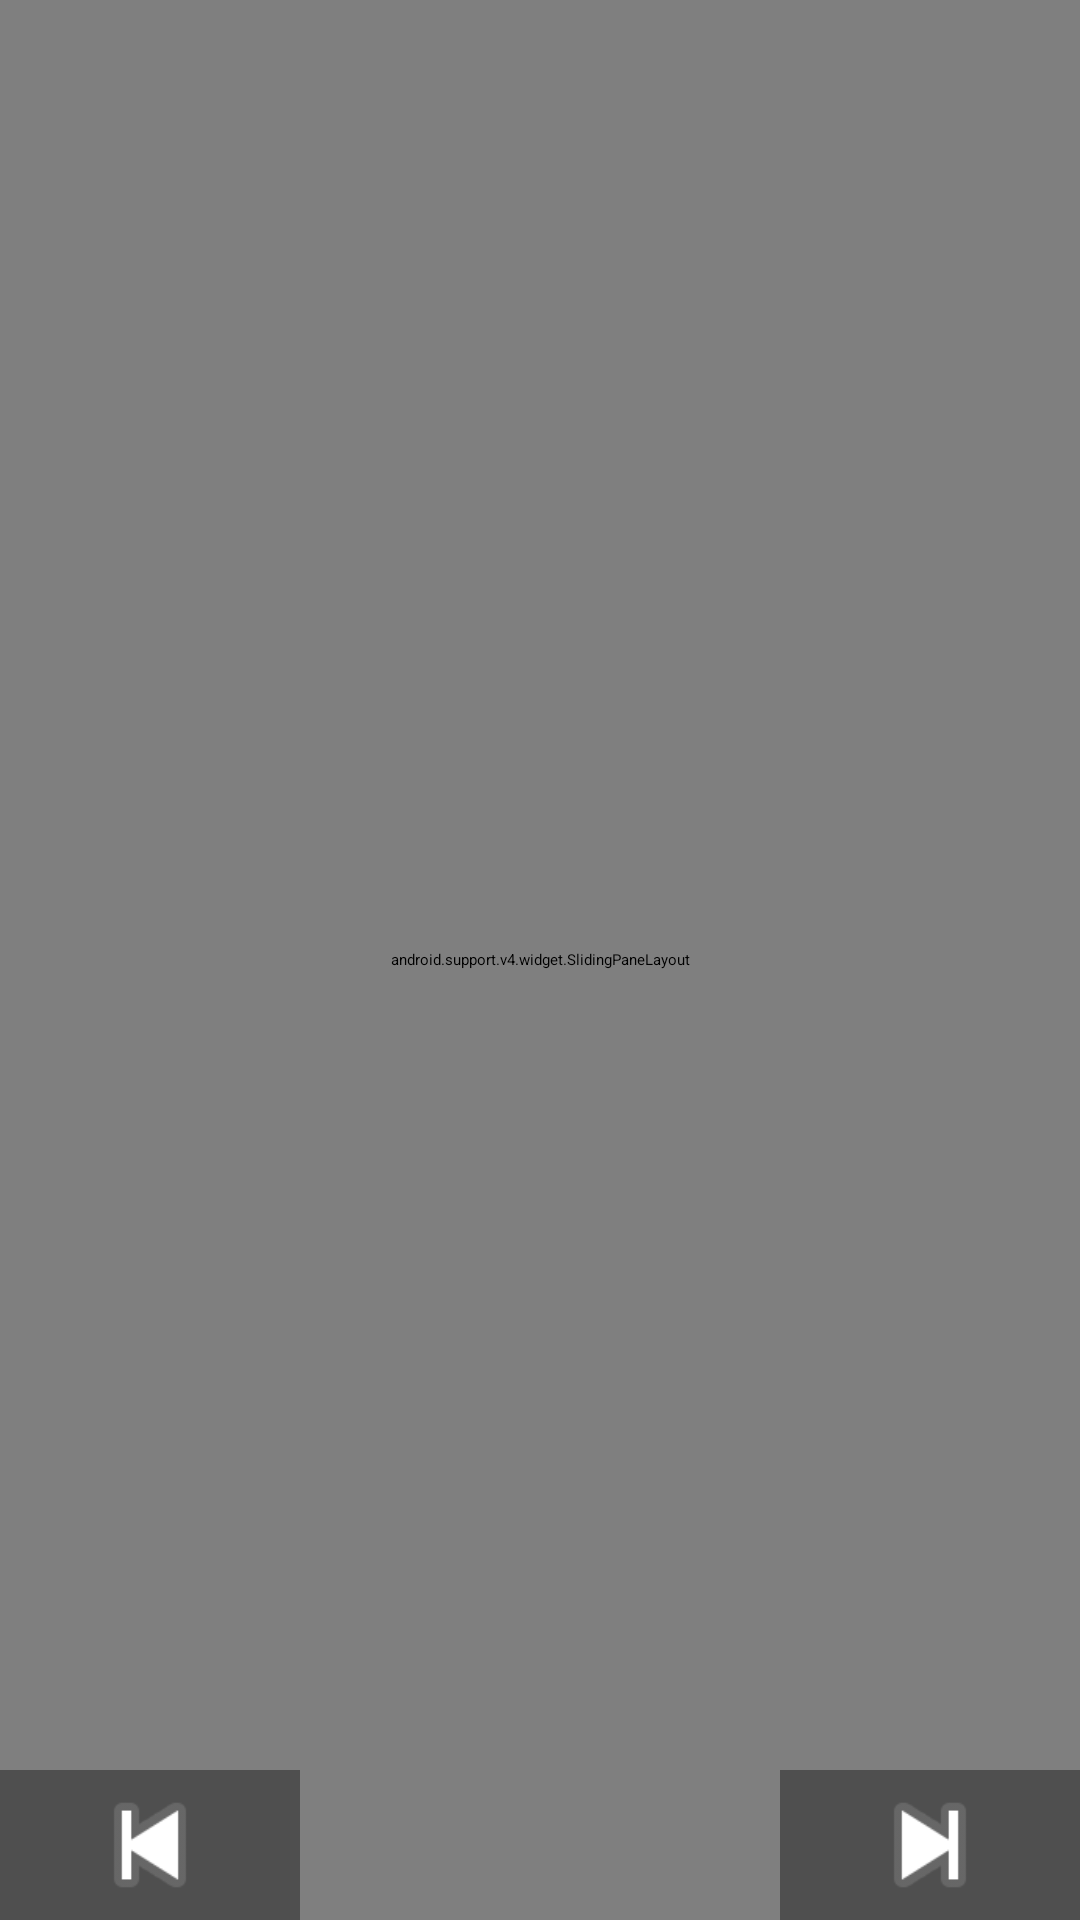

Named icons in this screenshot (1080px x 1920px) and their centers, (x=x, y=y):
next: (x=930, y=1845)
previous: (x=150, y=1845)
